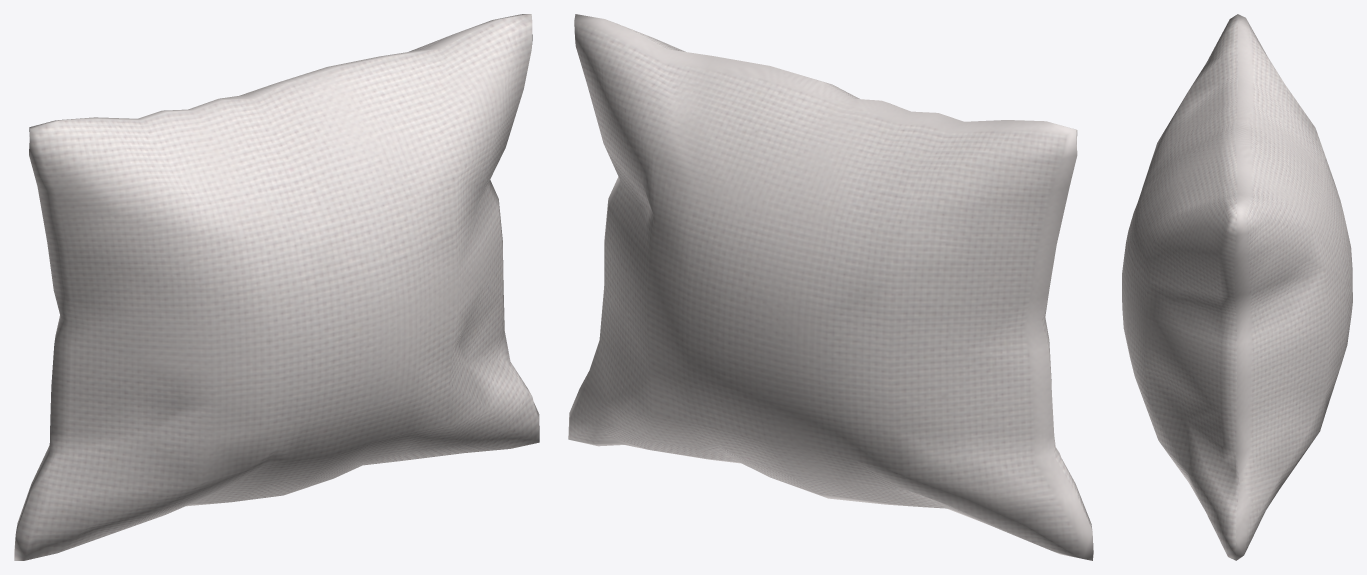
Rendered from Pillows_4.fbx.
The picture shows the model from 3 angles, left to right: view 1: azimuth 30°, elevation 25°; view 2: azimuth 150°, elevation 25°; view 3: azimuth 270°, elevation 25°; orthographic projection. The views are drawn at different scales.
Parts seen in each view (by area): view 1: Cube.153; view 2: Cube.153; view 3: Cube.153.
Boxes of the visible parts, x1,y1,x2,y2 form: Cube.153: [14, 14, 539, 560]; Cube.153: [568, 14, 1093, 560]; Cube.153: [1122, 14, 1352, 560].
Bounding box in the file's own units: 64.08 × 50.89 × 30.48.
